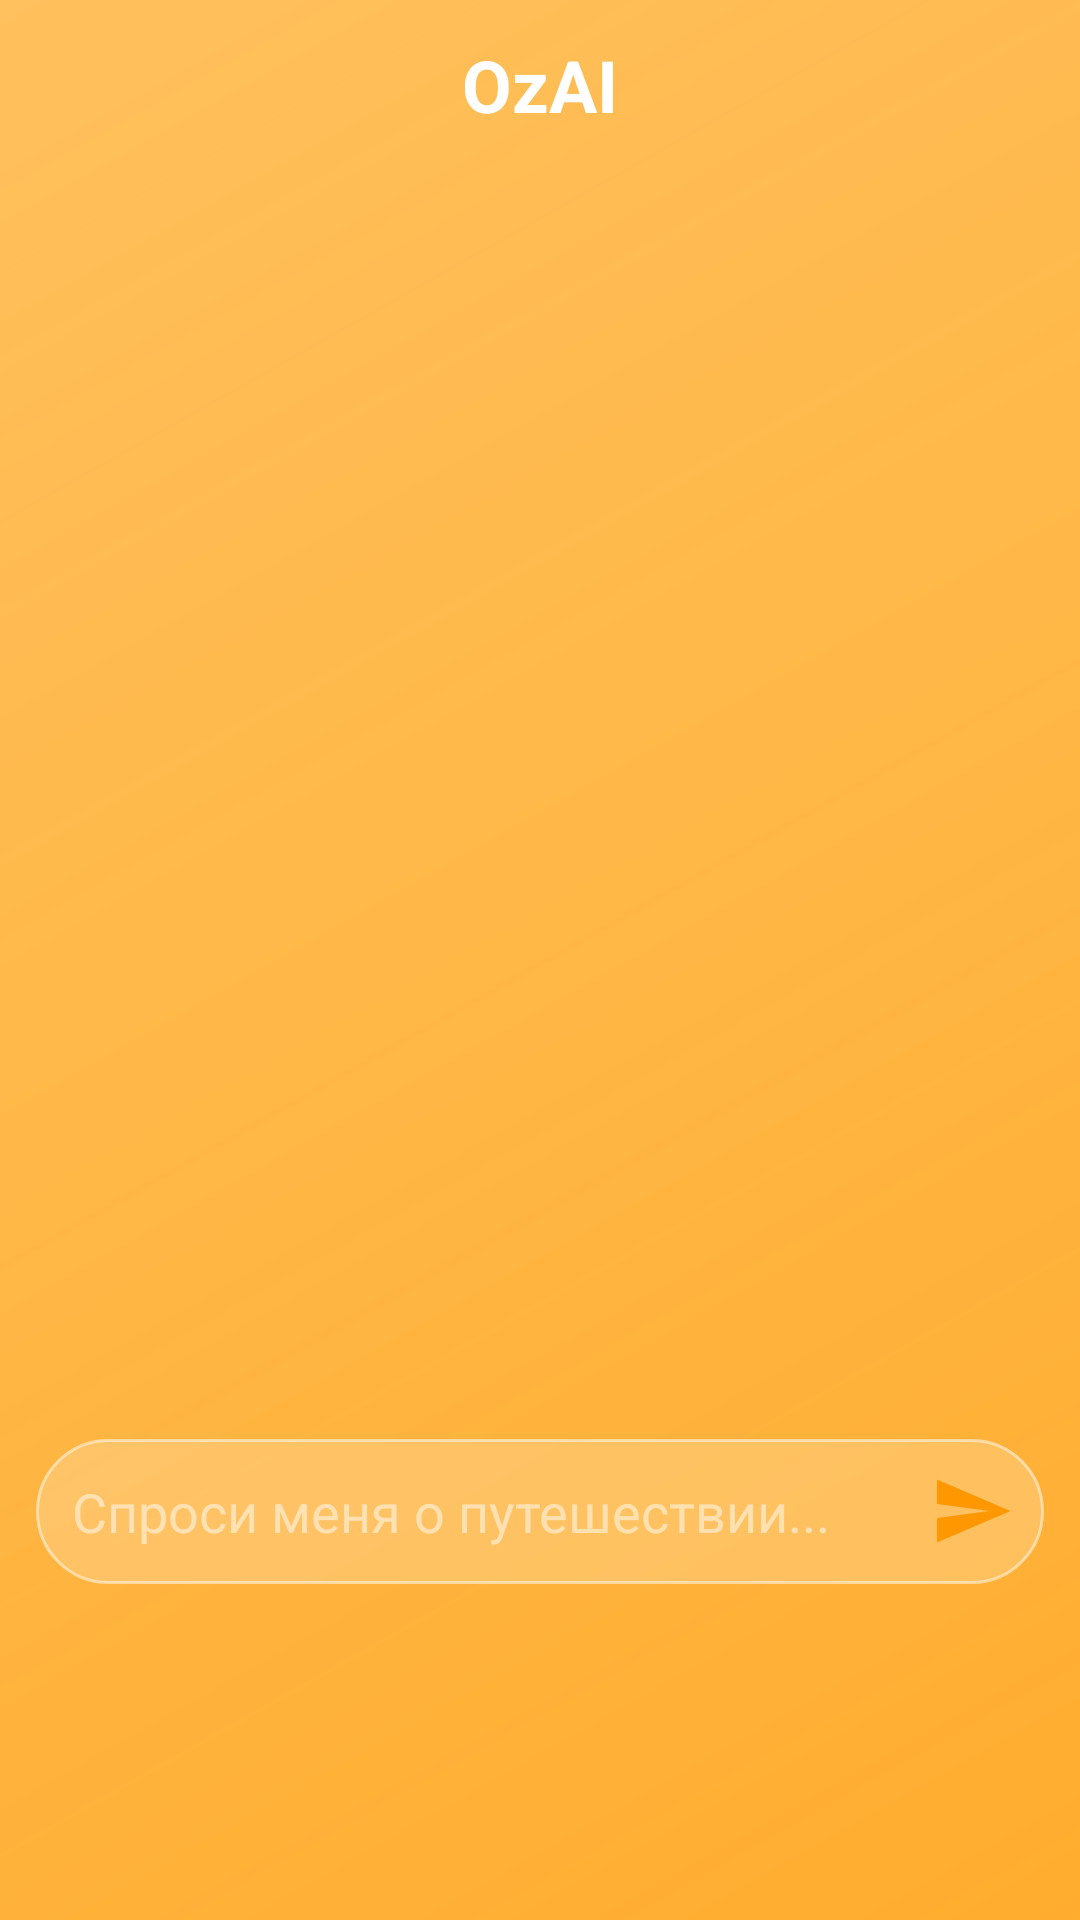

Icons on this 1080 × 1920 Android screen, each with its box as (x1, y1, x2, y2):
Отправить: (900, 1439, 1044, 1583)
